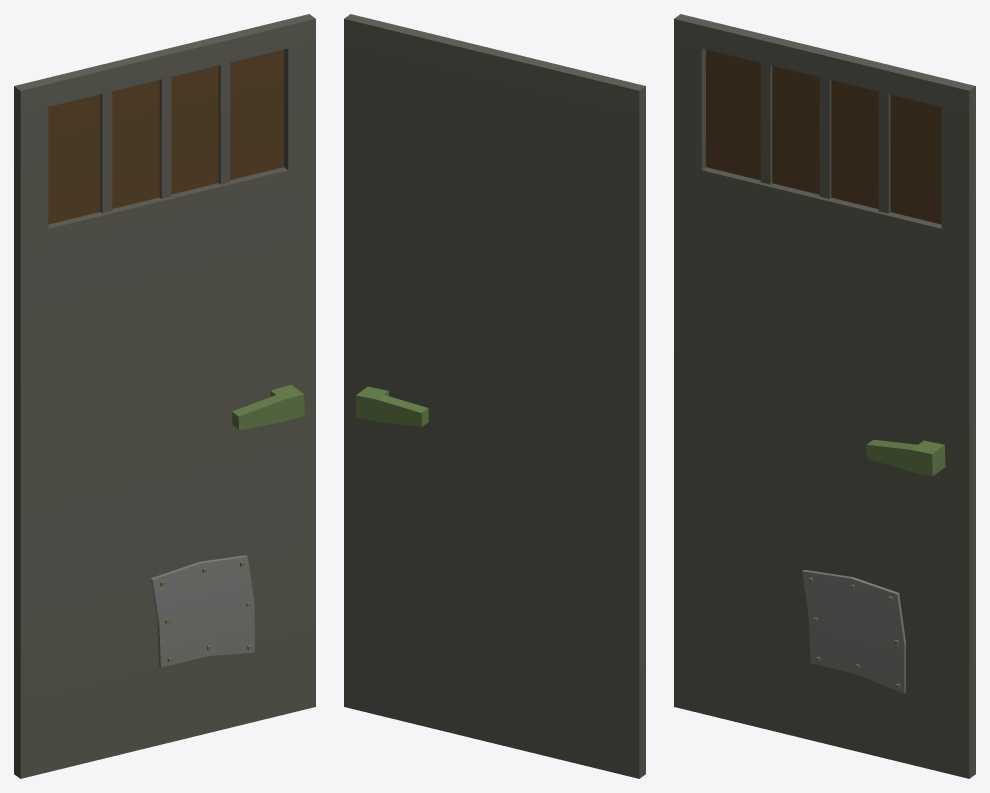
File: House_10_Door01.fbx
The picture shows the model from 3 angles, left to right: view 1: azimuth 30°, elevation 25°; view 2: azimuth 150°, elevation 25°; view 3: azimuth 330°, elevation 25°; orthographic projection.
Parts seen in each view (by area): view 1: House_10_Door01; view 2: House_10_Door01; view 3: House_10_Door01.
Part boxes in pixels (box(x1,y1,x2,y2)): House_10_Door01: box(14, 14, 315, 778); House_10_Door01: box(344, 14, 645, 778); House_10_Door01: box(674, 14, 975, 778).
Size of the model in its own units: 0.9 by 2 by 0.1656.
